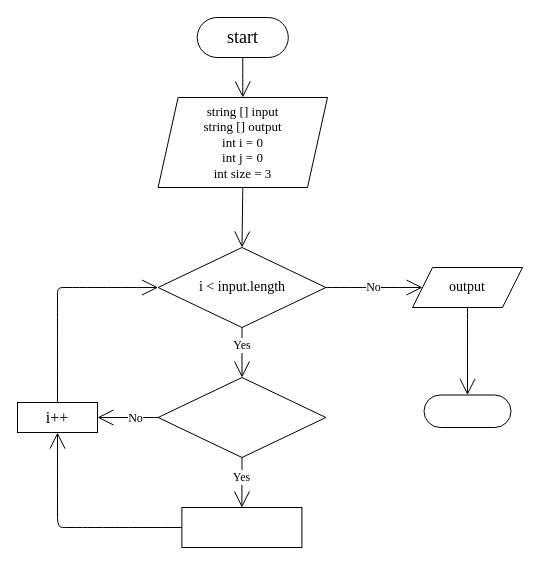
The diagram is 540 pixels wide and 565 high, and some of its shapes have lost their labels. Here are the shapes that lost their labels. From the top down, the centre of each, then its label:
At (241,417): "input[i].length <= size".
At (467,411): "end".
At (241,527): "output[j] = input[i]; j++;".
